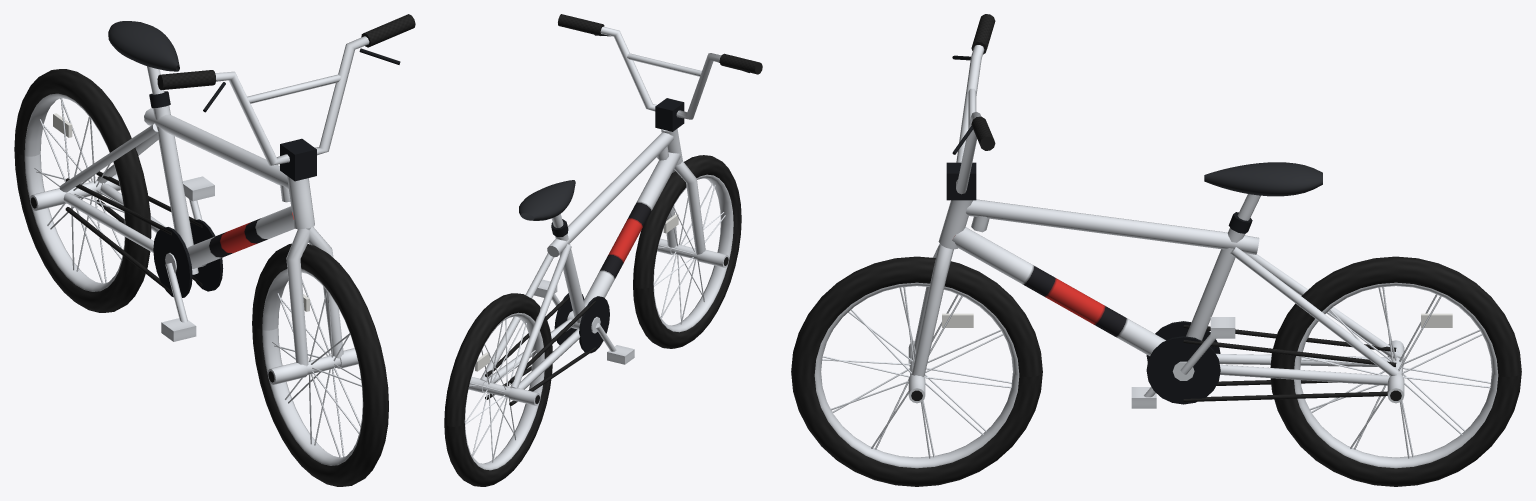
File: basikal_bmx_krom.glb
The picture shows the model from 3 angles, left to right: view 1: azimuth 30°, elevation 25°; view 2: azimuth 150°, elevation 25°; view 3: azimuth 270°, elevation 25°; orthographic projection. The views are drawn at different scales.
Visible parts, largest first — view 1: Basikal_BMX_Krom; view 2: Basikal_BMX_Krom; view 3: Basikal_BMX_Krom.
Boxes of the visible parts, left/top/right/bottom form: Basikal_BMX_Krom: left=14, top=14, right=415, bottom=486; Basikal_BMX_Krom: left=444, top=14, right=762, bottom=486; Basikal_BMX_Krom: left=791, top=14, right=1521, bottom=486.
Bounding box in the file's own units: 0.5952 × 0.9172 × 1.48.
Materials: 1 (1 with a texture image).
